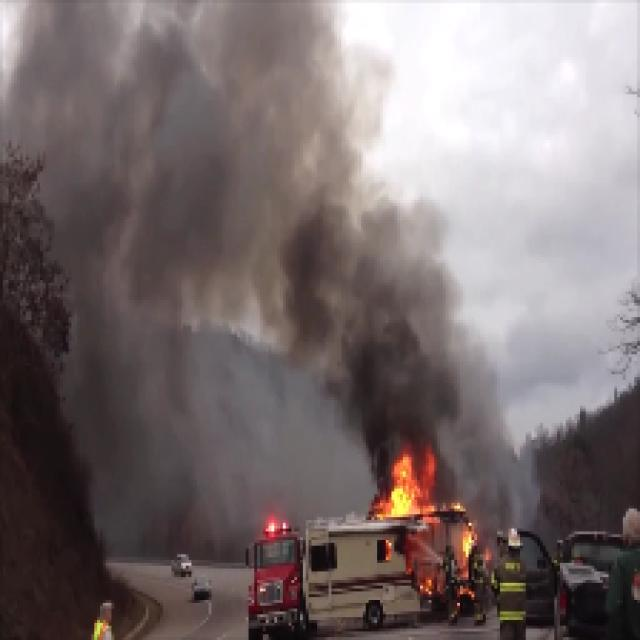fire: (375, 456, 441, 521)
smoke: (40, 4, 336, 371), (343, 202, 478, 444)
